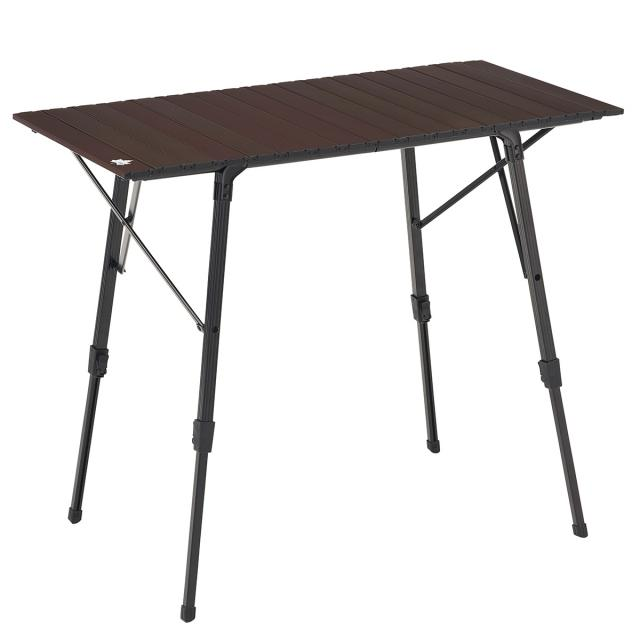table: (8, 54, 632, 625)
